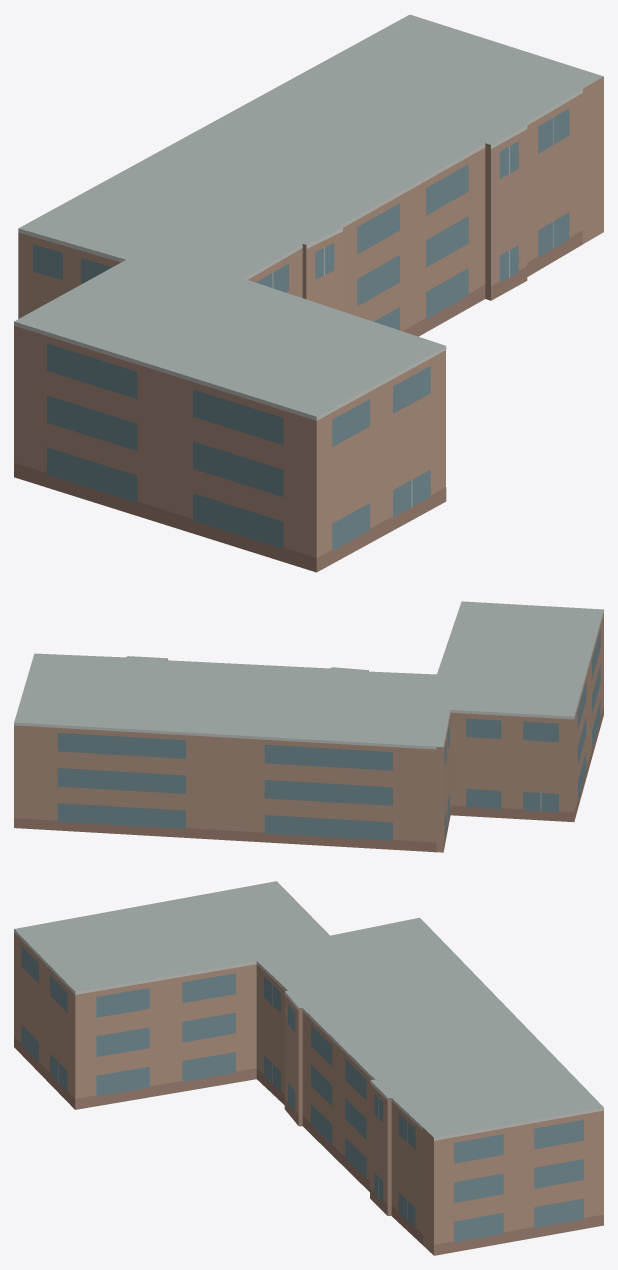
The model's file is survey-upis-32639228.glb.
The picture shows the model from 3 angles, top to bottom: view 1: azimuth 30°, elevation 25°; view 2: azimuth 150°, elevation 25°; view 3: azimuth 270°, elevation 25°; orthographic projection. The views are drawn at different scales.
Parts seen in each view (by area): view 1: survey-upis-32639228.tmp; view 2: survey-upis-32639228.tmp; view 3: survey-upis-32639228.tmp.
Part boxes in pixels (box(x1,y1,x2,y2)): survey-upis-32639228.tmp: box(14, 14, 603, 572); survey-upis-32639228.tmp: box(14, 601, 603, 852); survey-upis-32639228.tmp: box(14, 881, 603, 1255).
Bounding box in the file's own units: 42.66 × 9.15 × 41.43.
